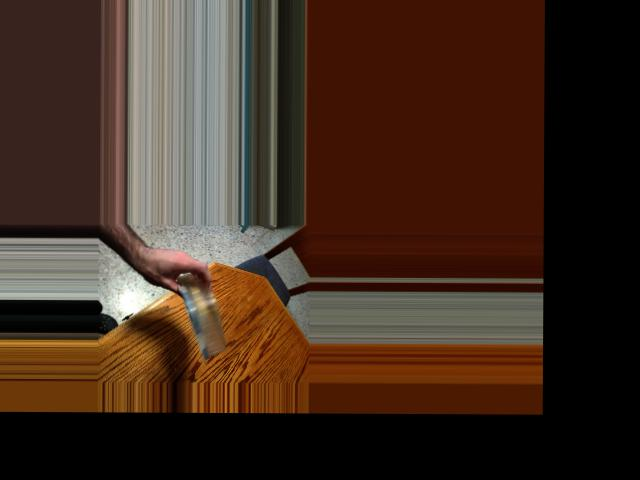cheese: (186, 263, 221, 361)
